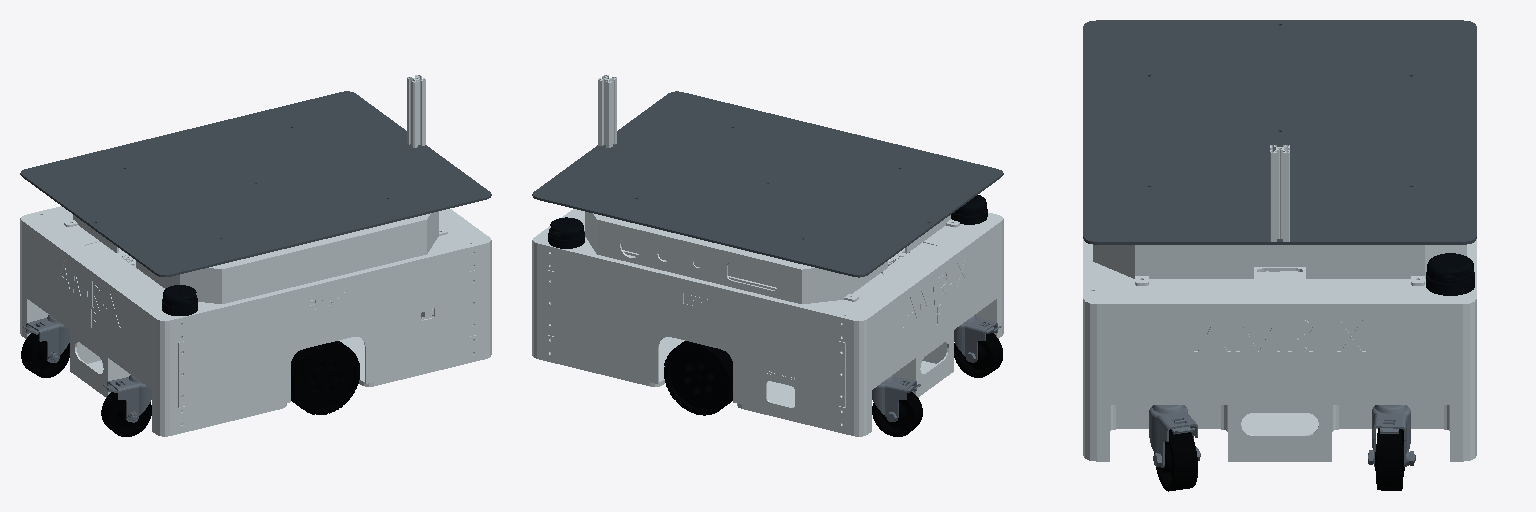
robot.urdf — AMR-2Lidar-Link:
<?xml version="1.0" encoding="utf-8"?>
<!-- This URDF was automatically created by SolidWorks to URDF Exporter! Originally created by Stephen Brawner (brawner@gmail.com) 
     Commit Version: 1.6.0-4-g7f85cfe  Build Version: 1.6.7995.38578
     For more information, please see http://wiki.ros.org/sw_urdf_exporter -->
<robot
  name="AMR-2Lidar-Link">
  <!-- AMR-X visual finish palette:
       porcelain body panels, brushed-metal deck and caster forks,
       rubber-black wheels, and graphite sensor housings. -->
  <link
    name="base_link">
    <inertial>
      <origin
        xyz="0.00137619141427497 -0.000593406526369778 -0.212968361709277"
        rpy="0 0 0" />
      <mass
        value="22.1090437469277" />
      <inertia
        ixx="0.541221819095536"
        ixy="-0.00027729020661416"
        ixz="0.0002447950863611"
        iyy="0.973191945840648"
        iyz="-0.000168021251934657"
        izz="1.44385592854034" />
    </inertial>
    <visual name="body_finish">
      <origin
        xyz="0 0 0"
        rpy="0 0 0" />
      <geometry>
        <mesh
          filename="package://robot_description/meshes/base_body_visual.STL" />
      </geometry>
      <material
        name="amrx_porcelain_white">
        <color
          rgba="0.82 0.86 0.88 1" />
      </material>
    </visual>
    <visual name="deck_finish">
      <origin xyz="0 0 0" rpy="0 0 0" />
      <geometry>
        <mesh filename="package://robot_description/meshes/base_deck_visual.STL" />
      </geometry>
      <material name="amrx_brushed_silver">
        <color rgba="0.32 0.36 0.39 1" />
      </material>
    </visual>
    <collision>
      <origin
        xyz="0 0 0"
        rpy="0 0 0" />
      <geometry>
        <mesh
          filename="package://robot_description/meshes/base_link.STL" />
      </geometry>
    </collision>
  </link>
  <link
    name="FR_Body_Caster_Link">
    <inertial>
      <origin
        xyz="0.0205025619096376 0.00805999842043462 -0.0351455880816226"
        rpy="0 0 0" />
      <mass
        value="0.0712645570553844" />
      <inertia
        ixx="4.45319289719978E-05"
        ixy="-5.81773865014641E-07"
        ixz="2.69456770292489E-06"
        iyy="4.59939202869369E-05"
        iyz="9.41238272155232E-07"
        izz="5.35142156051028E-05" />
    </inertial>
    <visual>
      <origin
        xyz="0 0 0"
        rpy="0 0 0" />
      <geometry>
        <mesh
          filename="package://robot_description/meshes/FR_Body_Caster_Link.STL" />
      </geometry>
      <material
        name="amrx_brushed_aluminum">
        <color
          rgba="0.42 0.46 0.50 1" />
      </material>
    </visual>
    <collision>
      <origin
        xyz="0 0 0"
        rpy="0 0 0" />
      <geometry>
        <mesh
          filename="package://robot_description/meshes/FR_Body_Caster_Link.STL" />
      </geometry>
    </collision>
  </link>
  <joint
    name="FR_Body_Caster_joint"
    type="continuous">
    <origin
      xyz="0.374 -0.169999999999993 -0.282499999999998"
      rpy="0 0 0" />
    <parent
      link="base_link" />
    <child
      link="FR_Body_Caster_Link" />
    <axis
      xyz="0 0 -1" />
  </joint>
  <link
    name="FR_Caster_Wheel_Link">
    <inertial>
      <origin
        xyz="-3.33066907387547E-16 0.0222865339908844 -1.04083408558608E-16"
        rpy="0 0 0" />
      <mass
        value="0.177618721015329" />
      <inertia
        ixx="0.000148679235470586"
        ixy="4.74338450462408E-20"
        ixz="-3.58519663705533E-21"
        iyy="0.000257680237598666"
        iyz="-4.79457457726133E-20"
        izz="0.000148679235470586" />
    </inertial>
    <visual>
      <origin
        xyz="0 0 0"
        rpy="0 0 0" />
      <geometry>
        <mesh
          filename="package://robot_description/meshes/FR_Caster_Wheel_Link.STL" />
      </geometry>
      <material
        name="amrx_rubber_black">
        <color
          rgba="0.035 0.04 0.045 1" />
      </material>
    </visual>
    <collision>
      <origin
        xyz="0 0 0"
        rpy="0 0 0" />
      <geometry>
        <mesh
          filename="package://robot_description/meshes/FR_Caster_Wheel_Link.STL" />
      </geometry>
    </collision>
  </link>
  <joint
    name="FR_Caster_Wheel_joint"
    type="continuous">
    <origin
      xyz="0.0386920896195706 -0.00978837069543212 -0.078"
      rpy="0 0 0.336050555012841" />
    <parent
      link="FR_Body_Caster_Link" />
    <child
      link="FR_Caster_Wheel_Link" />
    <axis
      xyz="0 1 0" />
  </joint>
  <link
    name="FL_Body_Caster_Link">
    <inertial>
      <origin
        xyz="0.022028733333041 -0.000223339093545327 -0.0351454984672232"
        rpy="0 0 0" />
      <mass
        value="0.0712645578720288" />
      <inertia
        ixx="4.43330543774277E-05"
        ixy="9.06699137804065E-08"
        ixz="2.85079275825134E-06"
        iyy="4.61926668209074E-05"
        iyz="-1.38798124870845E-07"
        izz="5.3514227745675E-05" />
    </inertial>
    <visual>
      <origin
        xyz="0 0 0"
        rpy="0 0 0" />
      <geometry>
        <mesh
          filename="package://robot_description/meshes/FL_Body_Caster_Link.STL" />
      </geometry>
      <material
        name="amrx_brushed_aluminum">
        <color
          rgba="0.42 0.46 0.50 1" />
      </material>
    </visual>
    <collision>
      <origin
        xyz="0 0 0"
        rpy="0 0 0" />
      <geometry>
        <mesh
          filename="package://robot_description/meshes/FL_Body_Caster_Link.STL" />
      </geometry>
    </collision>
  </link>
  <joint
    name="FL_Body_Caster_joint"
    type="continuous">
    <origin
      xyz="0.374 0.170000000000006 -0.282499999999998"
      rpy="0 0 0" />
    <parent
      link="base_link" />
    <child
      link="FL_Body_Caster_Link" />
    <axis
      xyz="0 0 -1" />
  </joint>
  <link
    name="FL_Caster_Wheel_Link">
    <inertial>
      <origin
        xyz="-2.22044604925031E-16 -0.0217134660091165 -1.73472347597681E-17"
        rpy="0 0 0" />
      <mass
        value="0.177618721015329" />
      <inertia
        ixx="0.000148679235470585"
        ixy="1.99052742604761E-20"
        ixz="-6.0340766739589E-21"
        iyy="0.000257680237598665"
        iyz="-1.78933177108343E-21"
        izz="0.000148679235470585" />
    </inertial>
    <visual>
      <origin
        xyz="0 0 0"
        rpy="0 0 0" />
      <geometry>
        <mesh
          filename="package://robot_description/meshes/FL_Caster_Wheel_Link.STL" />
      </geometry>
      <material
        name="amrx_rubber_black">
        <color
          rgba="0.035 0.04 0.045 1" />
      </material>
    </visual>
    <collision>
      <origin
        xyz="0 0 0"
        rpy="0 0 0" />
      <geometry>
        <mesh
          filename="package://robot_description/meshes/FL_Caster_Wheel_Link.STL" />
      </geometry>
    </collision>
  </link>
  <joint
    name="FL_Caster_Wheel_joint"
    type="continuous">
    <origin
      xyz="0.0343304904762524 0.0203545430717568 -0.0780000000000001"
      rpy="0 0 -0.0486506116887168" />
    <parent
      link="FL_Body_Caster_Link" />
    <child
      link="FL_Caster_Wheel_Link" />
    <axis
      xyz="0 -1 0" />
  </joint>
  <link
    name="BR_Body_Caster_Link">
    <inertial>
      <origin
        xyz="-0.0220288643050933 0.000210006907644611 -0.0351454982768476"
        rpy="0 0 0" />
      <mass
        value="0.071264557847176" />
      <inertia
        ixx="4.43329452168321E-05"
        ixy="8.95443561334674E-08"
        ixz="-2.85087607349676E-06"
        iyy="4.61927755459435E-05"
        iyz="1.37072608516211E-07"
        izz="5.35142277781452E-05" />
    </inertial>
    <visual>
      <origin
        xyz="0 0 0"
        rpy="0 0 0" />
      <geometry>
        <mesh
          filename="package://robot_description/meshes/BR_Body_Caster_Link.STL" />
      </geometry>
      <material
        name="amrx_brushed_aluminum">
        <color
          rgba="0.42 0.46 0.50 1" />
      </material>
    </visual>
    <collision>
      <origin
        xyz="0 0 0"
        rpy="0 0 0" />
      <geometry>
        <mesh
          filename="package://robot_description/meshes/BR_Body_Caster_Link.STL" />
      </geometry>
    </collision>
  </link>
  <joint
    name="BR_Body_Caster_joint"
    type="continuous">
    <origin
      xyz="-0.373999999999999 -0.169999999999993 -0.282499999999998"
      rpy="0 0 0" />
    <parent
      link="base_link" />
    <child
      link="BR_Body_Caster_Link" />
    <axis
      xyz="0 0 -1" />
  </joint>
  <link
    name="BR_Caster_Wheel_Link">
    <inertial>
      <origin
        xyz="1.89084858881472E-16 0.0217134660091165 -2.25514051876985E-17"
        rpy="0 0 0" />
      <mass
        value="0.177618721015328" />
      <inertia
        ixx="0.000148679235470585"
        ixy="-6.60685698858354E-20"
        ixz="2.96982884968449E-20"
        iyy="0.000257680237598665"
        iyz="3.42889021891861E-20"
        izz="0.000148679235470585" />
    </inertial>
    <visual>
      <origin
        xyz="0 0 0"
        rpy="0 0 0" />
      <geometry>
        <mesh
          filename="package://robot_description/meshes/BR_Caster_Wheel_Link.STL" />
      </geometry>
      <material
        name="amrx_rubber_black">
        <color
          rgba="0.035 0.04 0.045 1" />
      </material>
    </visual>
    <collision>
      <origin
        xyz="0 0 0"
        rpy="0 0 0" />
      <geometry>
        <mesh
          filename="package://robot_description/meshes/BR_Caster_Wheel_Link.STL" />
      </geometry>
    </collision>
  </link>
  <joint
    name="BR_Caster_Wheel_joint"
    type="continuous">
    <origin
      xyz="-0.0343181653536056 -0.0203753166052122 -0.0780000000000002"
      rpy="0 0 -0.0480453985910889" />
    <parent
      link="BR_Body_Caster_Link" />
    <child
      link="BR_Caster_Wheel_Link" />
    <axis
      xyz="0 1 0" />
  </joint>
  <link
    name="BL_Body_Caster_Link">
    <inertial>
      <origin
        xyz="-0.0218678430005275 -0.00266697882029623 -0.0351455045702214"
        rpy="0 0 0" />
      <mass
        value="0.0712645529054218" />
      <inertia
        ixx="4.43414537888446E-05"
        ixy="-1.54182596802165E-07"
        ixz="-2.8443723651872E-06"
        iyy="4.61842448469417E-05"
        iyz="-2.36228974681823E-07"
        izz="5.3514226990257E-05" />
    </inertial>
    <visual>
      <origin
        xyz="0 0 0"
        rpy="0 0 0" />
      <geometry>
        <mesh
          filename="package://robot_description/meshes/BL_Body_Caster_Link.STL" />
      </geometry>
      <material
        name="amrx_brushed_aluminum">
        <color
          rgba="0.42 0.46 0.50 1" />
      </material>
    </visual>
    <collision>
      <origin
        xyz="0 0 0"
        rpy="0 0 0" />
      <geometry>
        <mesh
          filename="package://robot_description/meshes/BL_Body_Caster_Link.STL" />
      </geometry>
    </collision>
  </link>
  <joint
    name="BL_Body_Caster_joint"
    type="continuous">
    <origin
      xyz="-0.373999999999999 0.170000000000006 -0.282499999999998"
      rpy="0 0 0" />
    <parent
      link="base_link" />
    <child
      link="BL_Body_Caster_Link" />
    <axis
      xyz="0 0 -1" />
  </joint>
  <link
    name="BL_Caster_Wheel_Link">
    <inertial>
      <origin
        xyz="3.77302356024956E-16 -0.0222865339908825 7.80625564189563E-17"
        rpy="0 0 0" />
      <mass
        value="0.177618721015329" />
      <inertia
        ixx="0.000148679235470586"
        ixy="-4.15046144154607E-20"
        ixz="1.76376685974184E-20"
        iyy="0.000257680237598666"
        iyz="6.12826109423716E-21"
        izz="0.000148679235470585" />
    </inertial>
    <visual>
      <origin
        xyz="0 0 0"
        rpy="0 0 0" />
      <geometry>
        <mesh
          filename="package://robot_description/meshes/BL_Caster_Wheel_Link.STL" />
      </geometry>
      <material
        name="amrx_rubber_black">
        <color
          rgba="0.035 0.04 0.045 1" />
      </material>
    </visual>
    <collision>
      <origin
        xyz="0 0 0"
        rpy="0 0 0" />
      <geometry>
        <mesh
          filename="package://robot_description/meshes/BL_Caster_Wheel_Link.STL" />
      </geometry>
    </collision>
  </link>
  <joint
    name="BL_Caster_Wheel_joint"
    type="continuous">
    <origin
      xyz="-0.0350063315403583 0.0191689006488776 -0.0780000000000001"
      rpy="0 0 0.0828467818465256" />
    <parent
      link="BL_Body_Caster_Link" />
    <child
      link="BL_Caster_Wheel_Link" />
    <axis
      xyz="0 -1 0" />
  </joint>
  <link
    name="DR_Link">
    <inertial>
      <origin
        xyz="-1.58519700310666E-07 0.0188945749350604 -1.83852059257306E-07"
        rpy="0 0 0" />
      <mass
        value="0.694359970313603" />
      <inertia
        ixx="0.00133736761007223"
        ixy="4.06292710783297E-09"
        ixz="7.66114678507709E-10"
        iyy="0.00249169026727874"
        iyz="4.70958429396628E-09"
        izz="0.00133736783768793" />
    </inertial>
    <visual>
      <origin
        xyz="0 0 0"
        rpy="0 0 0" />
      <geometry>
        <mesh
          filename="package://robot_description/meshes/DR_Link.STL" />
      </geometry>
      <material
        name="amrx_rubber_black">
        <color
          rgba="0.035 0.04 0.045 1" />
      </material>
    </visual>
    <collision>
      <origin
        xyz="0 0 0"
        rpy="0 0 0" />
      <geometry>
        <mesh
          filename="package://robot_description/meshes/DR_Link.STL" />
      </geometry>
    </collision>
  </link>
  <joint
    name="DR_joint"
    type="continuous">
    <origin
      xyz="0 -0.289353419879756 -0.3305"
      rpy="0 0 0" />
    <parent
      link="base_link" />
    <child
      link="DR_Link" />
    <axis
      xyz="0 1 0" />
  </joint>
  <link
    name="DL_Link">
    <inertial>
      <origin
        xyz="-2.26846661843805E-07 -0.0188945749350604 8.64330206226671E-08"
        rpy="0 0 0" />
      <mass
        value="0.694359970313607" />
      <inertia
        ixx="0.00133736830215005"
        ixy="-5.81293010220078E-09"
        ixz="-5.152550629065E-10"
        iyy="0.00249169026727875"
        iyz="2.21300802855064E-09"
        izz="0.00133736714561013" />
    </inertial>
    <visual>
      <origin
        xyz="0 0 0"
        rpy="0 0 0" />
      <geometry>
        <mesh
          filename="package://robot_description/meshes/DL_Link.STL" />
      </geometry>
      <material
        name="amrx_rubber_black">
        <color
          rgba="0.035 0.04 0.045 1" />
      </material>
    </visual>
    <collision>
      <origin
        xyz="0 0 0"
        rpy="0 0 0" />
      <geometry>
        <mesh
          filename="package://robot_description/meshes/DL_Link.STL" />
      </geometry>
    </collision>
  </link>
  <joint
    name="DL_joint"
    type="continuous">
    <origin
      xyz="0 0.289353419879769 -0.3305"
      rpy="0 0 0" />
    <parent
      link="base_link" />
    <child
      link="DL_Link" />
    <axis
      xyz="0 1 0" />
  </joint>
  <link
    name="Lidar2_link">
    <inertial>
      <origin
        xyz="-0.000543004548526974 0.000841347150216609 -0.0222148342427571"
        rpy="0 0 0" />
      <mass
        value="0.163065240034906" />
      <inertia
        ixx="6.05699412893629E-05"
        ixy="-1.81258488113246E-07"
        ixz="-1.5594629675117E-07"
        iyy="6.0593687932255E-05"
        iyz="1.84120634628883E-07"
        izz="0.000107588752528074" />
    </inertial>
    <visual>
      <origin
        xyz="0 0 0"
        rpy="0 0 0" />
      <geometry>
        <mesh
          filename="package://robot_description/meshes/Lidar2_link.STL" />
      </geometry>
      <material
        name="amrx_sensor_graphite">
        <color
          rgba="0.06 0.08 0.10 1" />
      </material>
    </visual>
    <collision>
      <origin
        xyz="0 0 0"
        rpy="0 0 0" />
      <geometry>
        <mesh
          filename="package://robot_description/meshes/Lidar2_link.STL" />
      </geometry>
    </collision>
  </link>
  <joint
    name="Lidar2_joint"
    type="fixed">
    <origin
      xyz="-0.33245 -0.26043 -0.0637"
      rpy="0 0 0" />
    <parent
      link="base_link" />
    <child
      link="Lidar2_link" />
    <axis
      xyz="0 0 0" />
  </joint>
  <link
    name="Lidar1_link">
    <inertial>
      <origin
        xyz="0.663648255221156 0.518801307440716 -0.0222148342073081"
        rpy="0 0 0" />
      <mass
        value="0.163065240500782" />
      <inertia
        ixx="6.05766350494223E-05"
        ixy="1.81573163514374E-07"
        ixz="-1.76596355157286E-07"
        iyy="6.05869944506688E-05"
        iyz="-1.64418298512892E-07"
        izz="0.000107588752845482" />
    </inertial>
    <visual>
      <origin
        xyz="-0.664362 -0.519457 0"
        rpy="0 0 0" />
      <geometry>
        <mesh
          filename="package://robot_description/meshes/Lidar1_link.STL" />
      </geometry>
      <material
        name="amrx_sensor_graphite">
        <color
          rgba="0.06 0.08 0.10 1" />
      </material>
    </visual>
    <collision>
      <origin
        xyz="-0.664362 -0.519457 0"
        rpy="0 0 0" />
      <geometry>
        <mesh
          filename="package://robot_description/meshes/Lidar1_link.STL" />
      </geometry>
    </collision>
  </link>
  <joint
    name="Lidar1_joint"
    type="fixed">
    <origin
      xyz="0.33245 0.26043 -0.0637"
      rpy="0 0 0" />
    <parent
      link="base_link" />
    <child
      link="Lidar1_link" />
    <axis
      xyz="0 0 0" />
  </joint>
</robot>

--- Facts derived from the render (not from the file) ---
The picture shows the robot from 3 angles, left to right: view 1: azimuth 30°, elevation 25°; view 2: azimuth 150°, elevation 25°; view 3: azimuth 270°, elevation 25°; orthographic projection.
Model AMR-2Lidar-Link with 13 links and 12 joints (10 continuous, 2 fixed), rooted at base_link, posed all joints at 0.
Visible links, largest first — view 1: base_link, DR_Link, BR_Caster_Wheel_Link, BL_Caster_Wheel_Link, BR_Body_Caster_Link, BL_Body_Caster_Link, Lidar2_link; view 2: base_link, DL_Link, BR_Caster_Wheel_Link, BL_Caster_Wheel_Link, BL_Body_Caster_Link, BR_Body_Caster_Link, Lidar1_link, Lidar2_link; view 3: base_link, FR_Caster_Wheel_Link, Lidar1_link, FR_Body_Caster_Link, FL_Caster_Wheel_Link, FL_Body_Caster_Link.
Link boxes in pixels (left/top/right/bottom): base_link: left=20, top=75, right=491, bottom=436; DR_Link: left=291, top=341, right=359, bottom=414; BR_Caster_Wheel_Link: left=101, top=392, right=151, bottom=436; BL_Caster_Wheel_Link: left=21, top=333, right=69, bottom=377; BR_Body_Caster_Link: left=103, top=375, right=151, bottom=422; BL_Body_Caster_Link: left=23, top=315, right=69, bottom=362; Lidar2_link: left=162, top=285, right=197, bottom=315; base_link: left=532, top=75, right=1003, bottom=436; DL_Link: left=664, top=341, right=732, bottom=415; BR_Caster_Wheel_Link: left=954, top=333, right=1002, bottom=377; BL_Caster_Wheel_Link: left=872, top=392, right=922, bottom=436; BL_Body_Caster_Link: left=872, top=375, right=920, bottom=421; BR_Body_Caster_Link: left=954, top=315, right=1001, bottom=362; Lidar1_link: left=548, top=217, right=584, bottom=248; Lidar2_link: left=951, top=195, right=987, bottom=224; base_link: left=1083, top=20, right=1476, bottom=461; FR_Caster_Wheel_Link: left=1154, top=429, right=1197, bottom=491; Lidar1_link: left=1426, top=253, right=1474, bottom=295; FR_Body_Caster_Link: left=1149, top=405, right=1200, bottom=467; FL_Caster_Wheel_Link: left=1375, top=428, right=1404, bottom=490; FL_Body_Caster_Link: left=1368, top=405, right=1415, bottom=466.
Bounding box of the posed robot: 0.9171 × 0.6 × 0.5605 m (x, y, z).
Meshes: 14 distinct files referenced, 14 mesh visuals loaded (14 binary STL).
